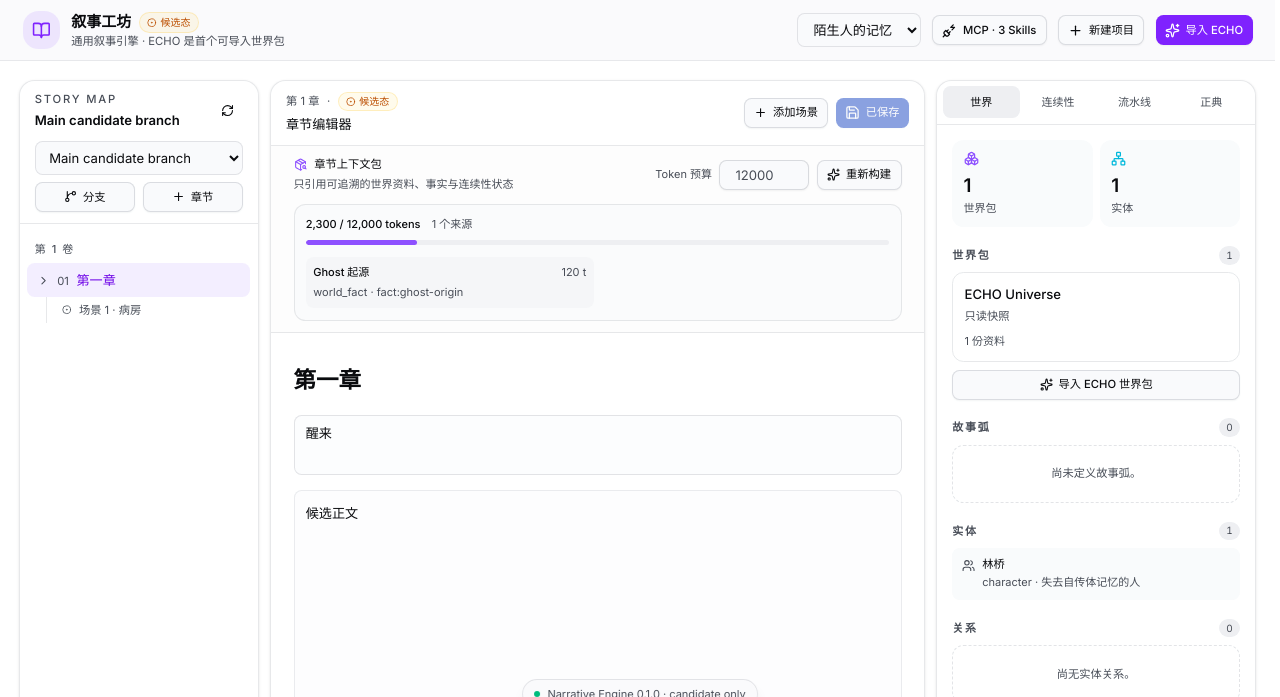
Test: NarrativePage › runs the real AI stage into an audited preview without auto-submitting
Expected: the field showing "第一章" is shown, [294, 356, 902, 404]
Step 1. Click the button "流水线" → point(1135, 102), box [1096, 86, 1173, 118]
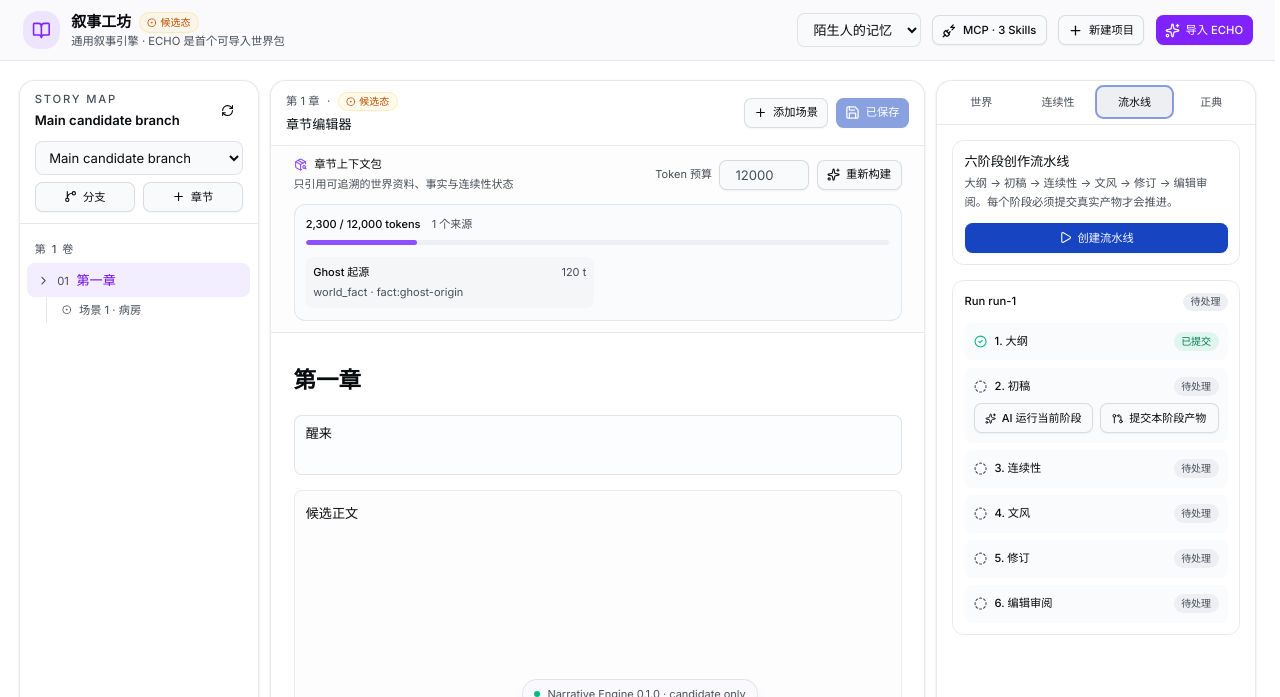
Step 2. Click the button "AI 运行当前阶段" → point(1033, 418), box [974, 403, 1092, 433]
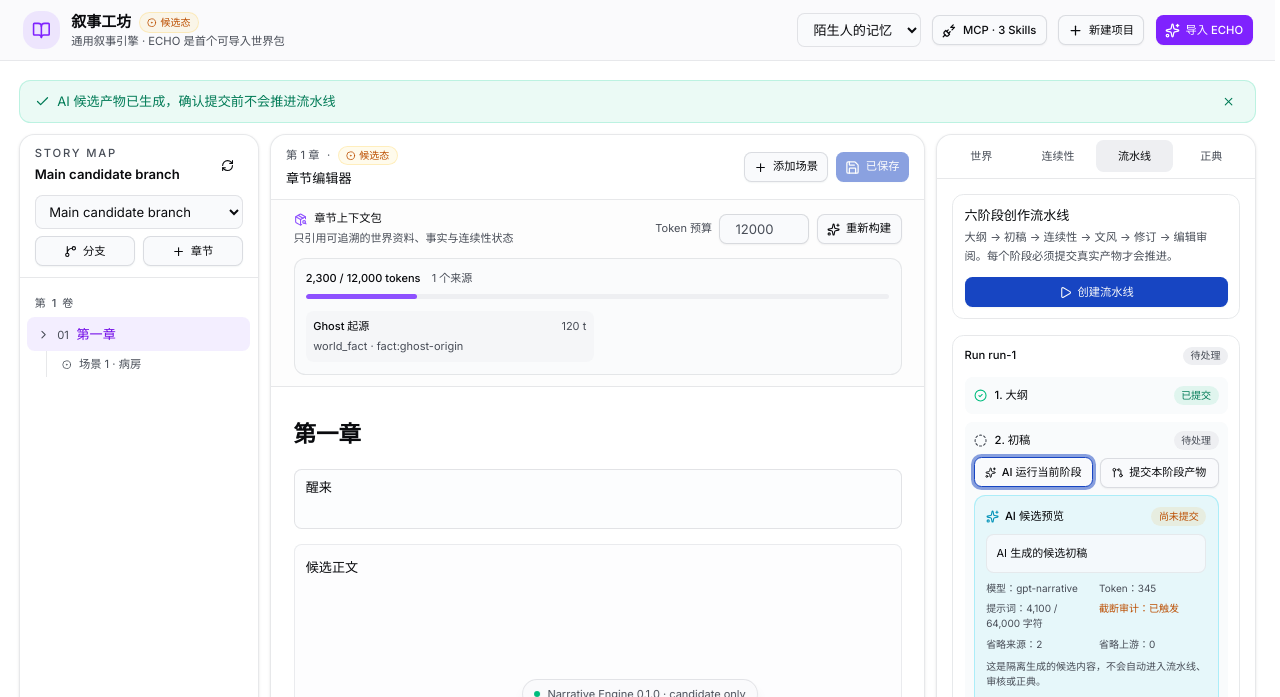
Expected: the text "AI 生成的候选初稿" is shown, [986, 534, 1206, 573]
Expected: the text "模型：gpt-narrative" is shown, [986, 581, 1093, 596]
Expected: the text "Token：345" is shown, [1099, 582, 1156, 594]
